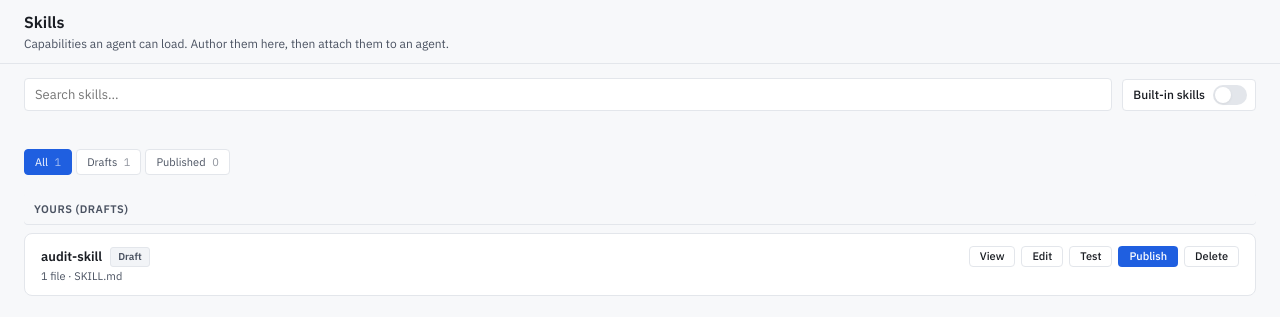
Scenario: SkillsCenter › filters by name
Expected: the button with aria-label "Edit audit-skill" is shown, [1021,246,1063,267]
Type "zzz" into the field labelled "Search skills" at (568, 94), box [24,78,1112,111]
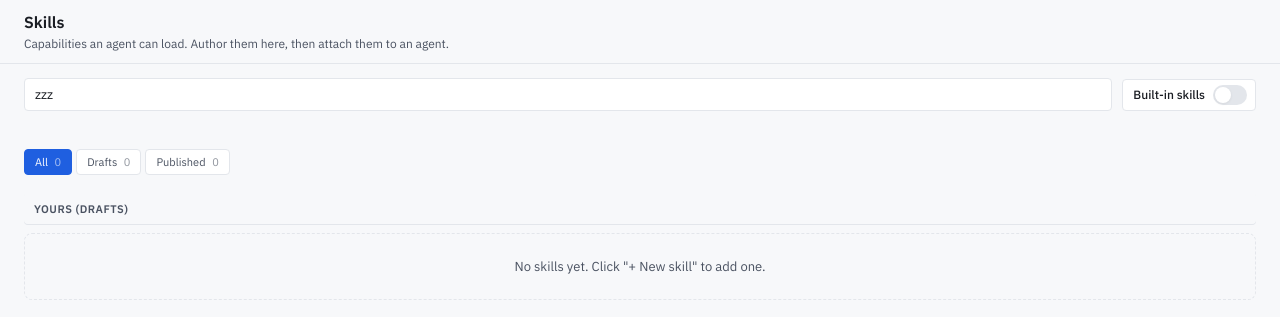
Result: the text "Edit audit-skill" is gone
